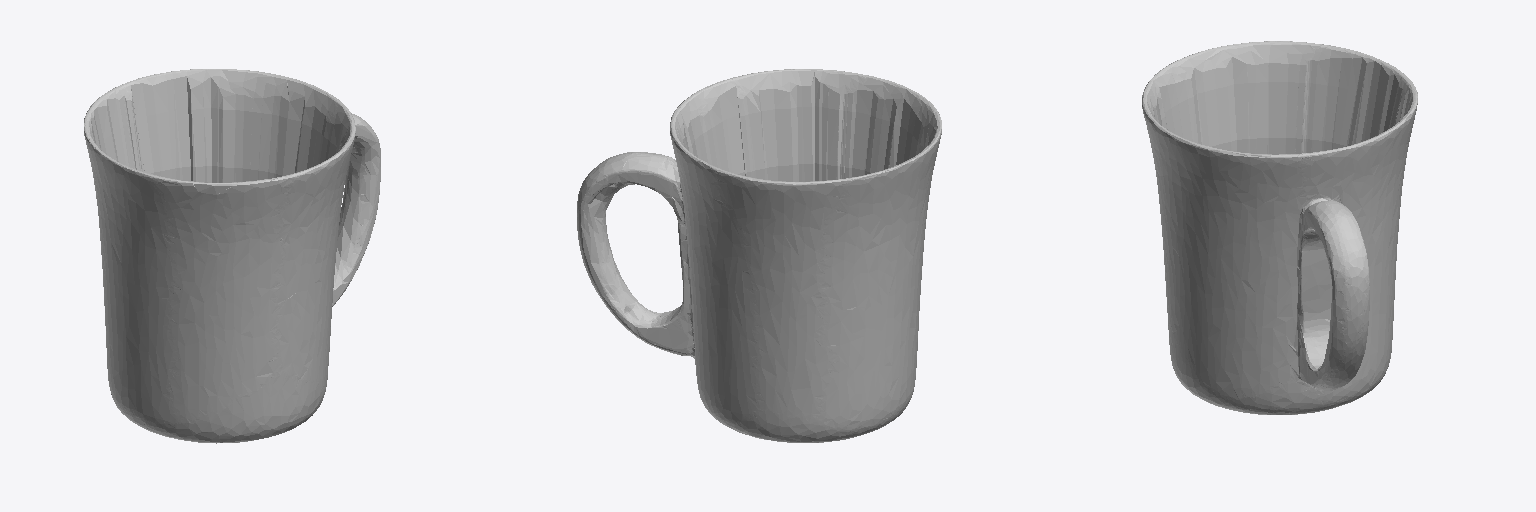
The picture shows the model from 3 angles: view 1: azimuth 30°, elevation 25°; view 2: azimuth 150°, elevation 25°; view 3: azimuth 270°, elevation 25°; orthographic projection.
Parts seen in each view (by area): view 1: [number redacted]_2_peizi1; view 2: [number redacted]_2_peizi1; view 3: [number redacted]_2_peizi1.
Part boxes in pixels (left/top/right/bottom): [number redacted]_2_peizi1: left=84, top=69, right=380, bottom=443; [number redacted]_2_peizi1: left=577, top=69, right=941, bottom=442; [number redacted]_2_peizi1: left=1142, top=41, right=1417, bottom=414.
Size of the model in its own units: 0.1157 by 0.1 by 0.0893.